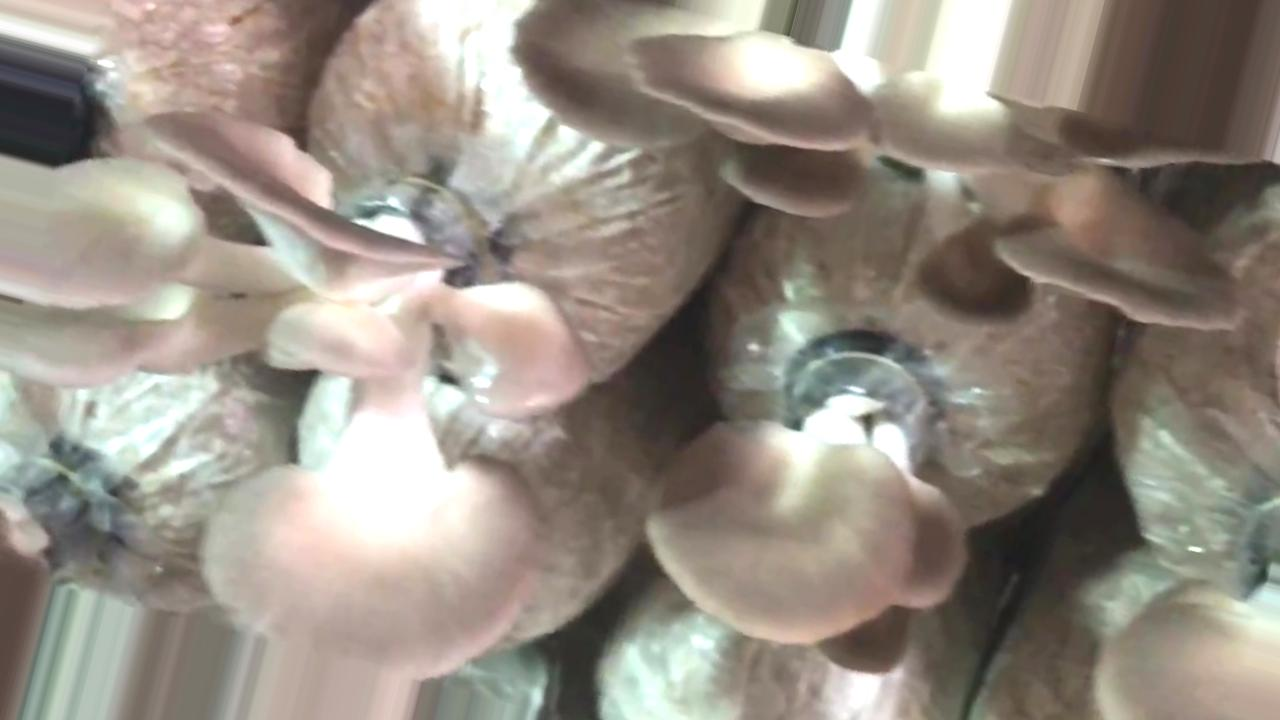nam: (1, 107, 599, 681), (468, 1, 1280, 335), (642, 334, 967, 681), (1093, 503, 1279, 720)
